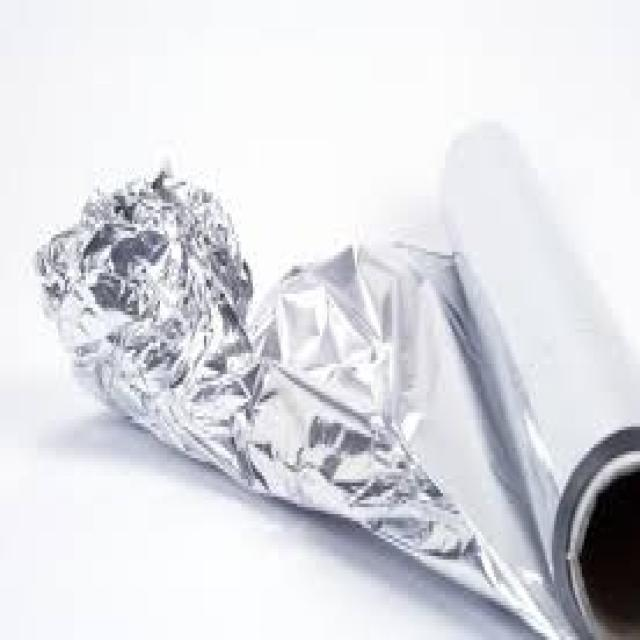kim_loai: (30, 119, 640, 640)
